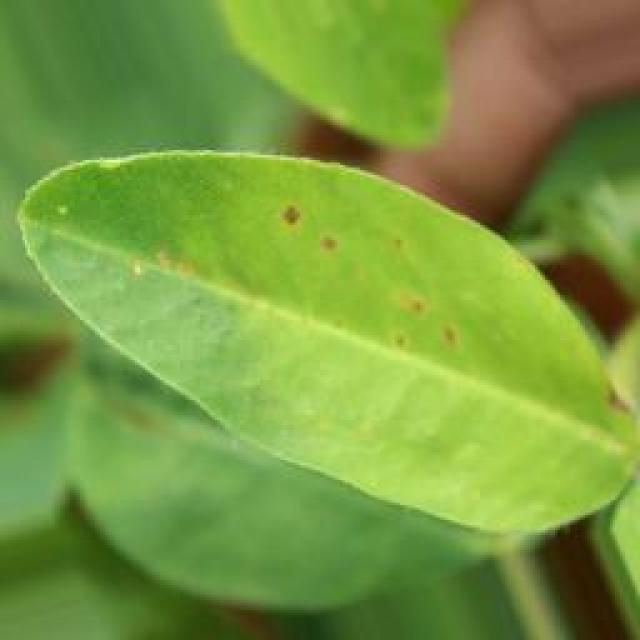Sigatoka: (142, 223, 225, 337), (384, 284, 470, 368), (278, 192, 356, 261), (584, 390, 640, 448)
